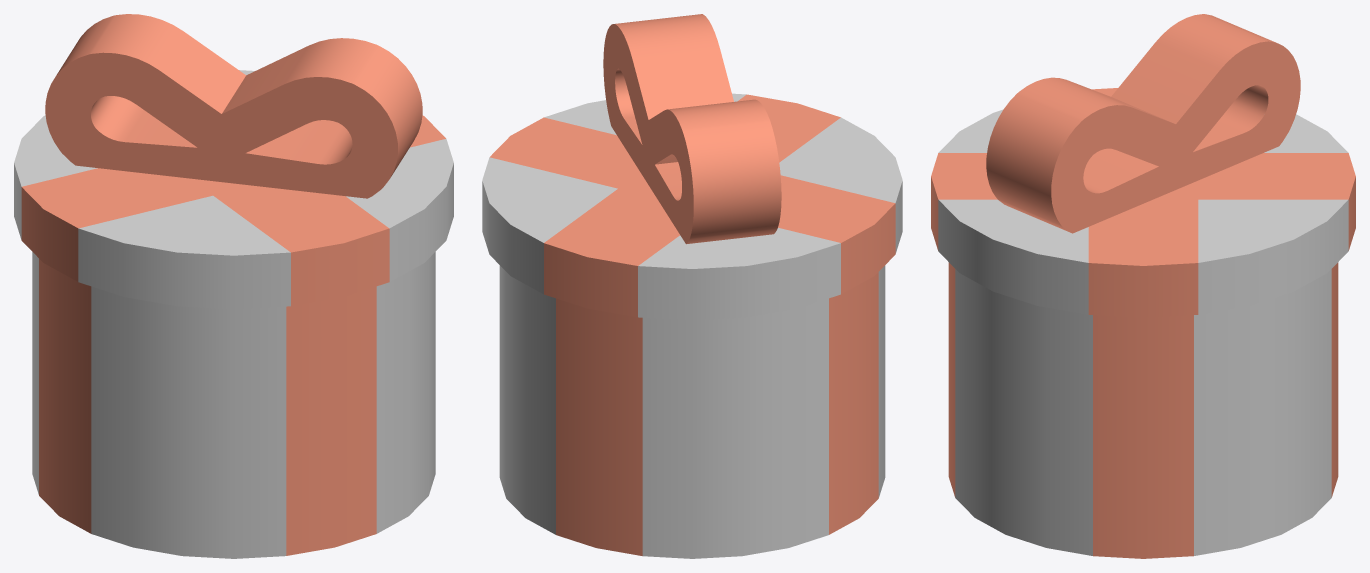
The model's file is presentRound.glb.
3 renders of one model, left to right at view 1: azimuth 30°, elevation 25°; view 2: azimuth 150°, elevation 25°; view 3: azimuth 270°, elevation 25°, orthographic. The views are drawn at different scales.
Parts seen in each view (by area): view 1: Group, lid, tie; view 2: Group, lid, tie; view 3: Group, lid, tie.
Boxes of the visible parts, box(x1,y1,x2,y2) form: Group: box(32, 252, 435, 558); lid: box(14, 70, 453, 309); tie: box(45, 14, 422, 198); Group: box(499, 265, 885, 558); lid: box(482, 93, 902, 320); tie: box(603, 14, 781, 244); Group: box(948, 262, 1338, 558); lid: box(931, 88, 1355, 317); tie: box(986, 14, 1300, 233).
Size of the model in its own units: 0.361 by 0.3873 by 0.361.
